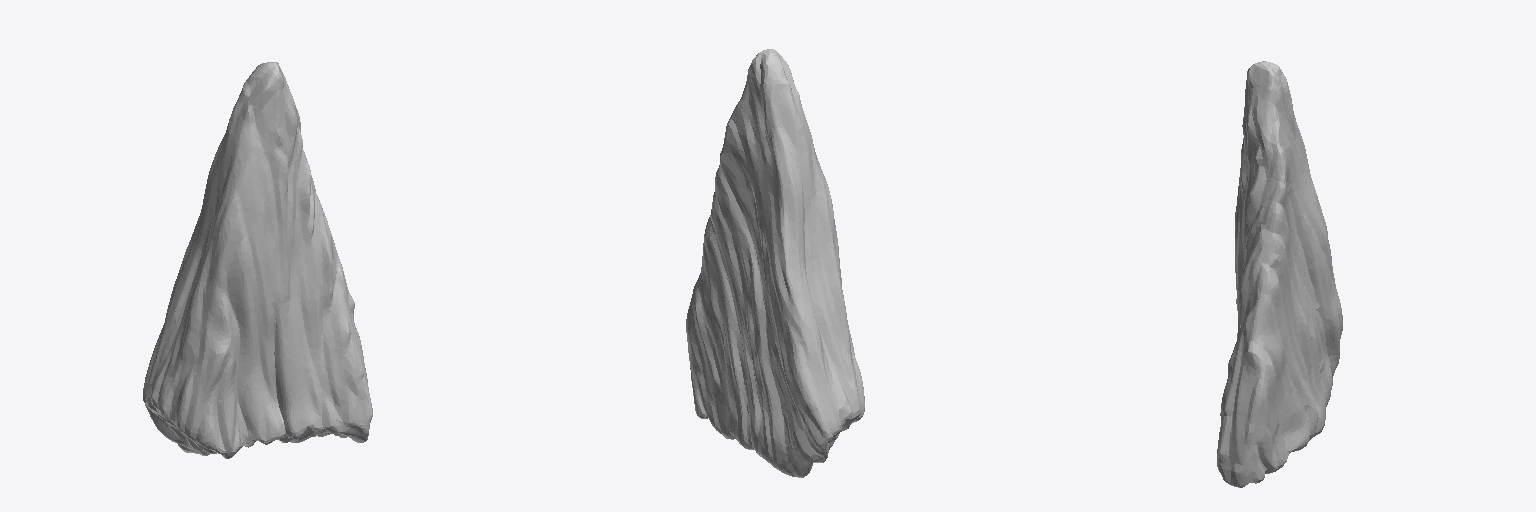
Rendered from CL_drums_dir1_LOD1.obj.
3 views of the same model, side by side, from view 1: azimuth 30°, elevation 25°; view 2: azimuth 150°, elevation 25°; view 3: azimuth 270°, elevation 25° (orthographic).
Size of the model in its own units: 0.4995 by 1 by 0.2904.